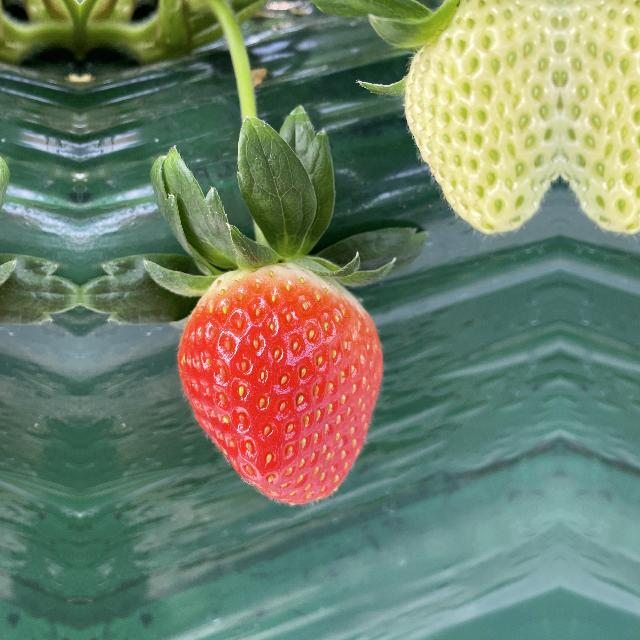Health_100: (173, 271, 387, 509)
Health_25: (401, 0, 559, 234), (561, 0, 640, 234)
